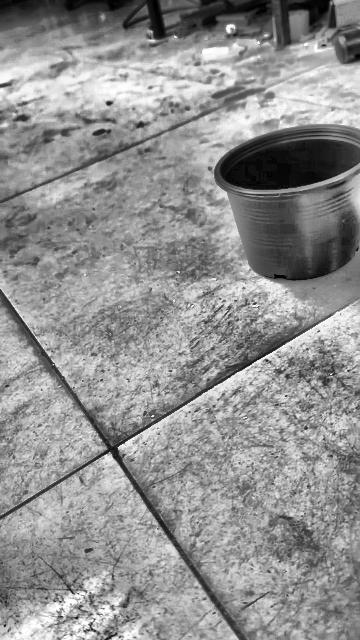pot: (215, 125, 360, 281)
